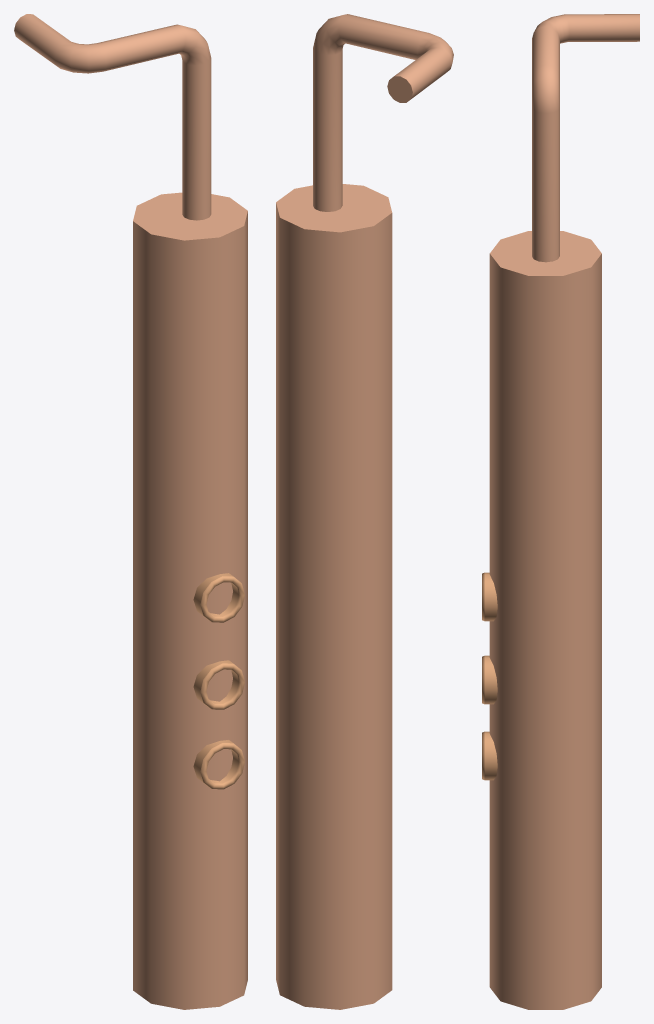
Rendered from SP_House06_Pipe01.fbx.
3 views of the same model, side by side, from view 1: azimuth 30°, elevation 25°; view 2: azimuth 150°, elevation 25°; view 3: azimuth 270°, elevation 25° (orthographic). The views are drawn at different scales.
Visible parts, largest first — view 1: SP_House06_Pipe01; view 2: SP_House06_Pipe01; view 3: SP_House06_Pipe01.
Boxes of the visible parts, left/top/right/bottom form: SP_House06_Pipe01: left=14, top=14, right=247, bottom=1009; SP_House06_Pipe01: left=276, top=14, right=453, bottom=1009; SP_House06_Pipe01: left=482, top=14, right=639, bottom=1009.
Size of the model in its own units: 0.8741 by 4.58 by 0.7126.
